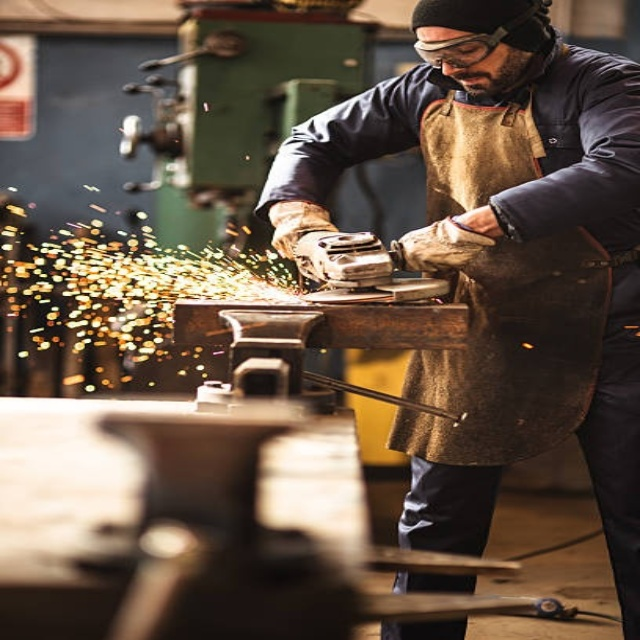Gafas: (412, 2, 543, 68)
Guantes: (268, 200, 349, 281), (396, 214, 500, 273)
Sin_mascara: (450, 72, 499, 96)
